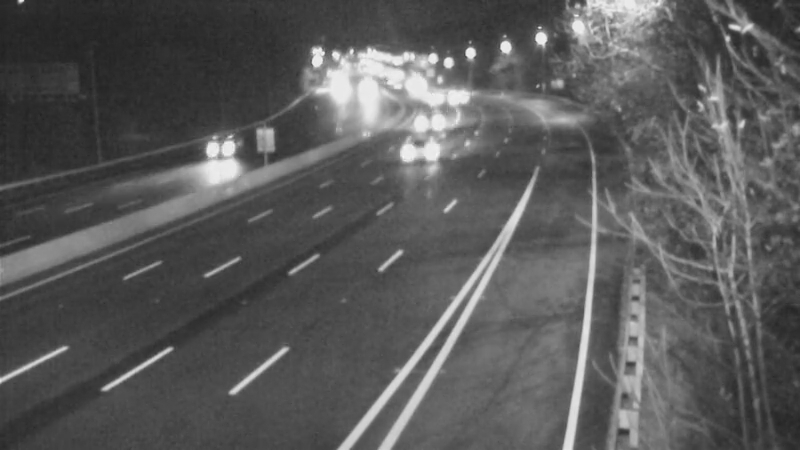vehicle: (372, 115, 452, 195), (432, 72, 482, 122), (405, 74, 455, 124), (408, 92, 458, 142), (198, 118, 248, 168)
